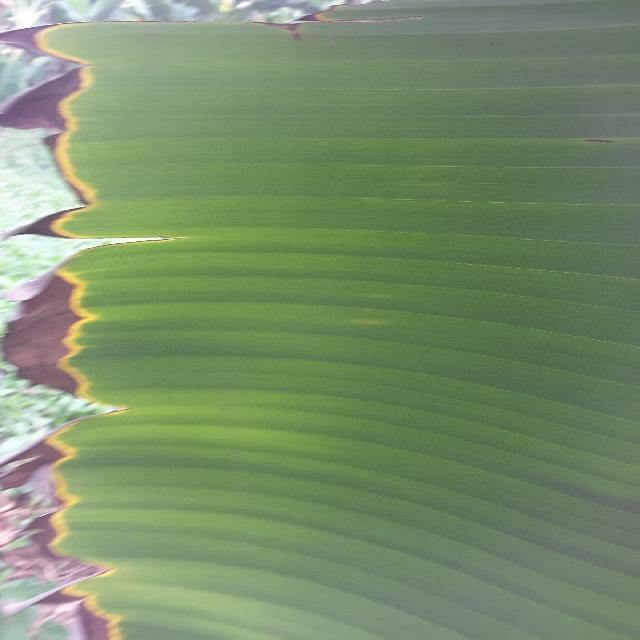Cordana: (0, 0, 200, 639), (225, 0, 434, 49), (540, 113, 640, 163)
